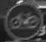bike lane: (3, 1, 42, 39)
